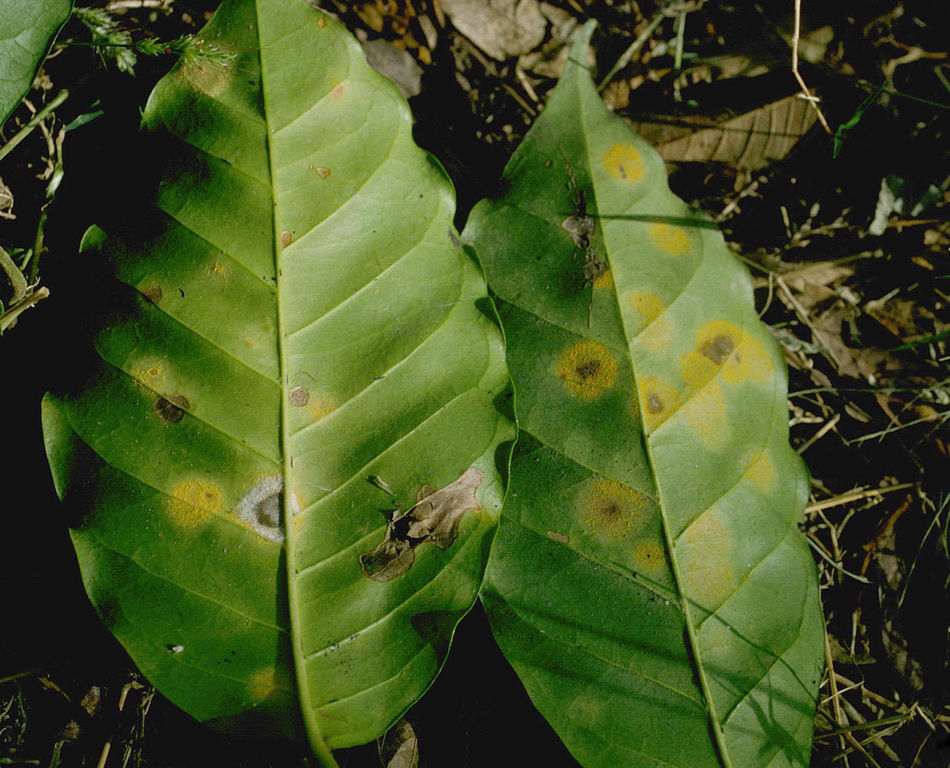roya: (536, 118, 806, 689)
